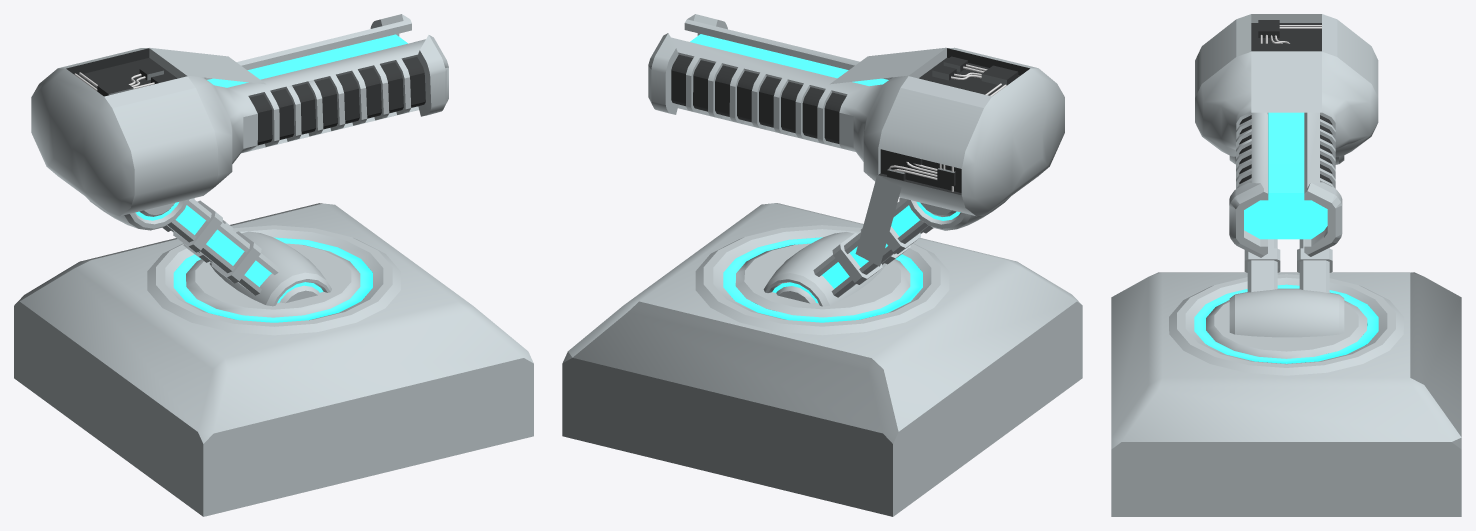
File: tourelle.fbx
3 views of the same model, side by side, from view 1: azimuth 30°, elevation 25°; view 2: azimuth 150°, elevation 25°; view 3: azimuth 270°, elevation 25° (orthographic). The views are drawn at different scales.
Visible parts, largest first — view 1: Box001, Cylinder003, Box002, Cylinder002, Cylinder001; view 2: Box001, Cylinder003, Box003, Cylinder002, Cylinder001; view 3: Box001, Cylinder003, Cylinder002, Box002, Box003.
Boxes of the visible parts, <box> form: Box001: <box>14,14,533,516</box>; Cylinder003: <box>147,225,400,335</box>; Box002: <box>167,198,279,295</box>; Cylinder002: <box>209,231,331,306</box>; Cylinder001: <box>86,197,189,230</box>; Box001: <box>562,14,1082,516</box>; Cylinder003: <box>695,225,949,335</box>; Box003: <box>813,198,928,297</box>; Cylinder002: <box>763,232,886,306</box>; Cylinder001: <box>906,197,1009,230</box>; Box001: <box>1111,14,1461,516</box>; Cylinder003: <box>1169,274,1403,375</box>; Cylinder002: <box>1229,288,1344,337</box>; Box002: <box>1244,239,1280,292</box>; Box003: <box>1297,239,1332,292</box>.
Bounding box in the file's own units: 48.26 × 45.53 × 42.09.
